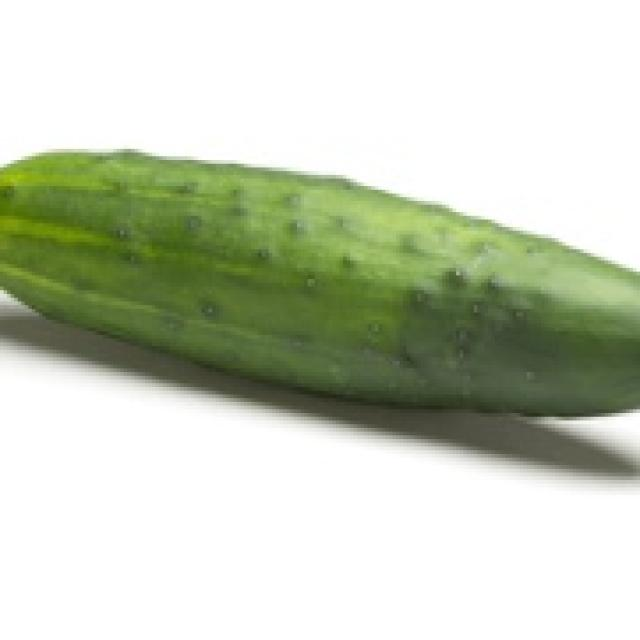cucumber: (0, 141, 640, 428)
